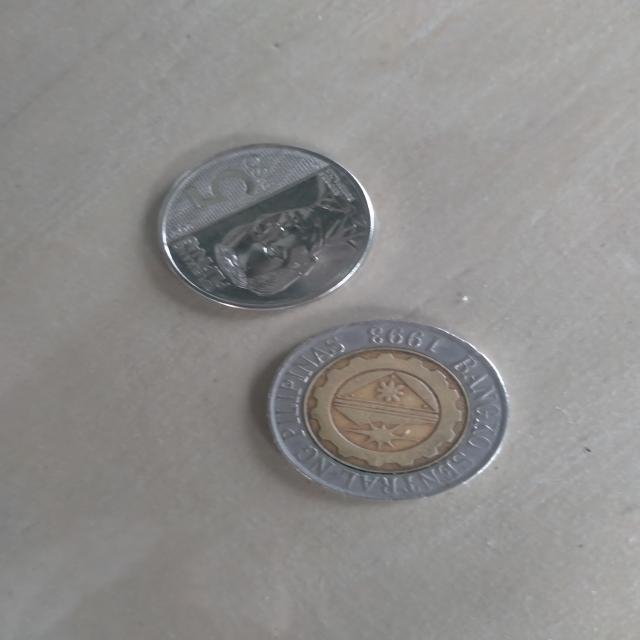10_Old_Back: (268, 322, 505, 505)
5_New_Front: (178, 154, 285, 215)
